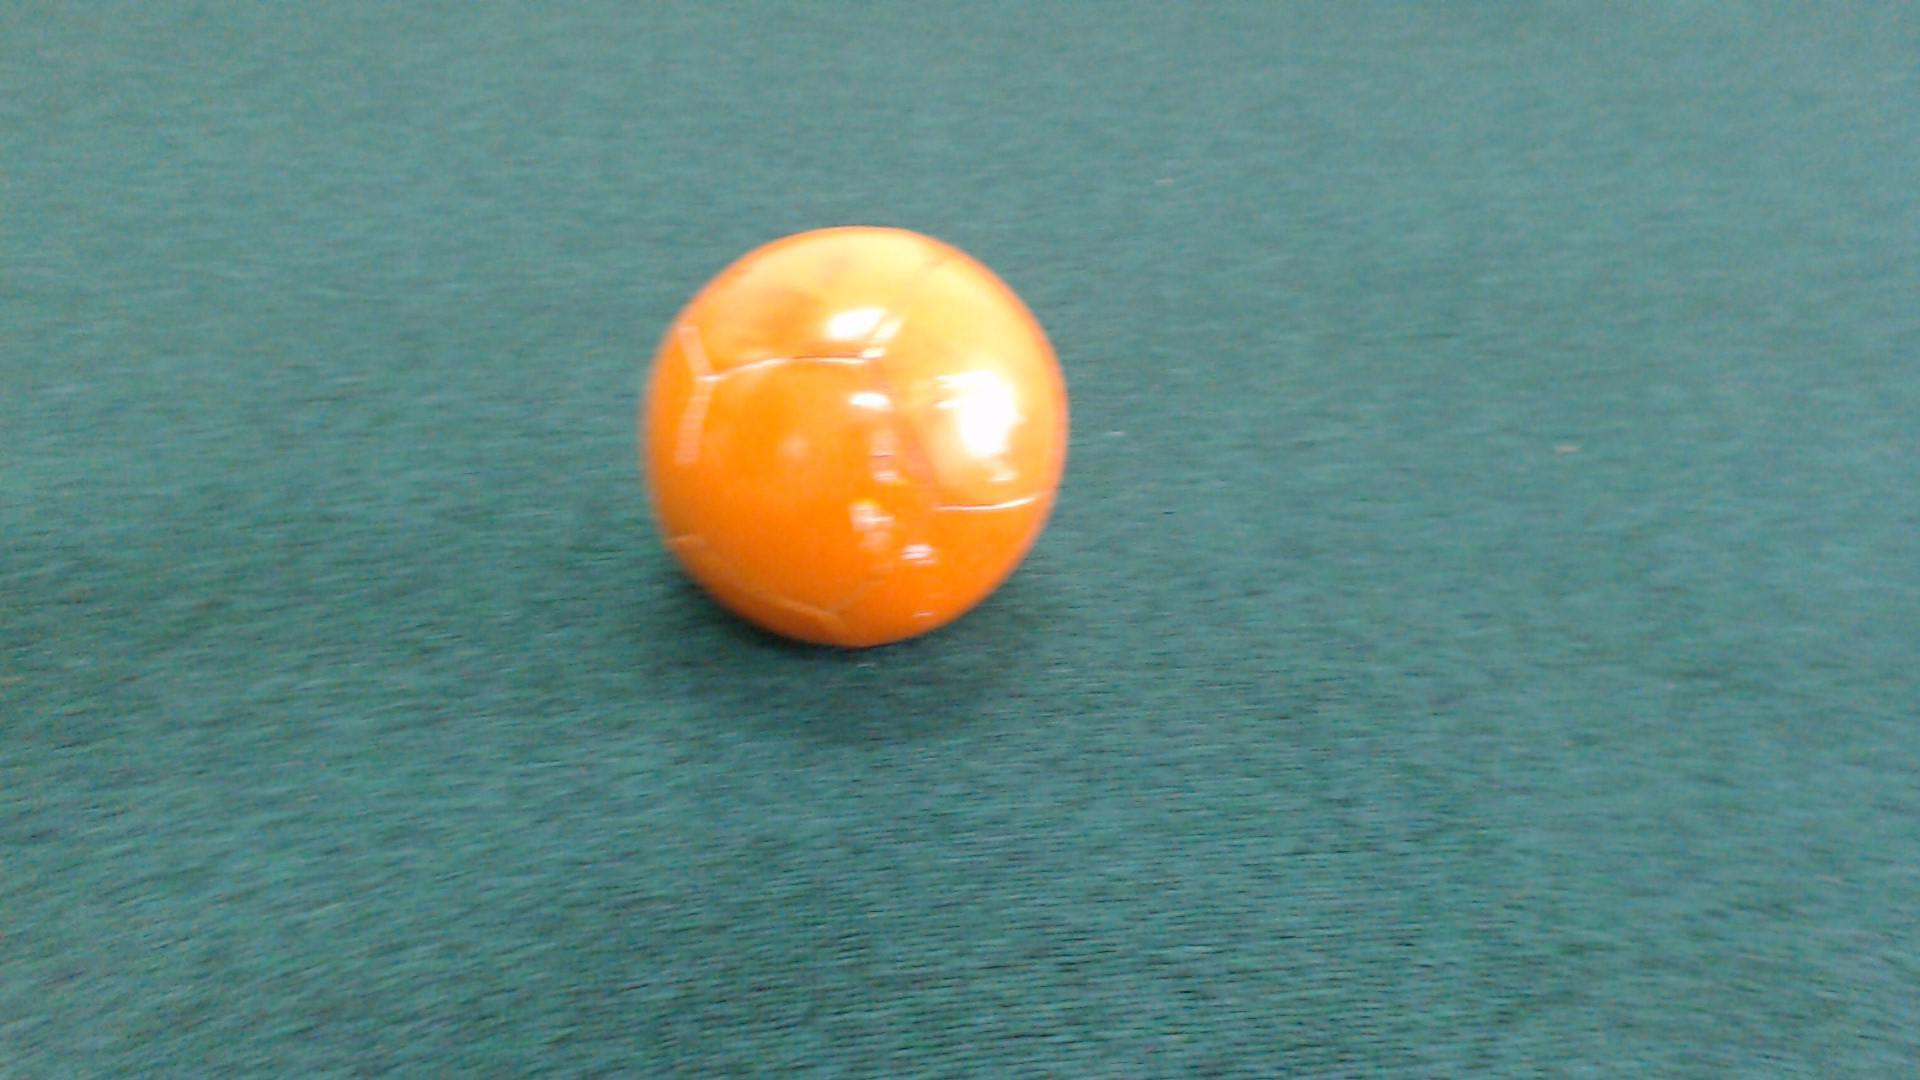bola: (611, 206, 1106, 666)
